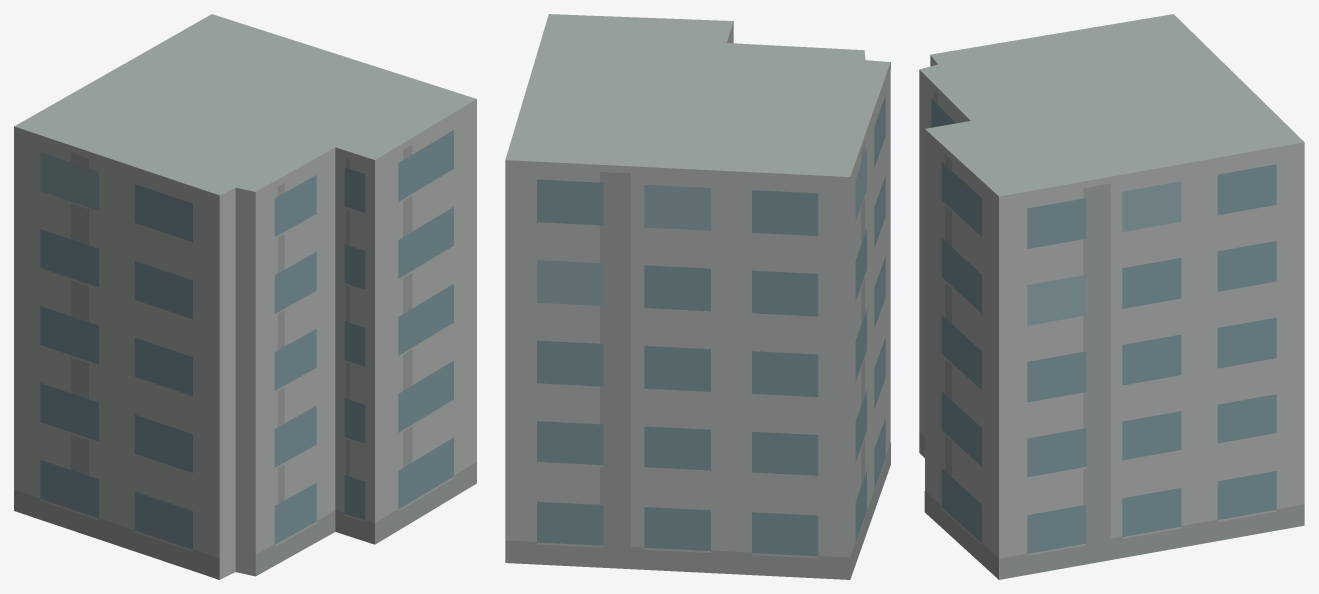
The model's file is survey-upis-33026941.glb.
3 views of the same model, side by side, from view 1: azimuth 30°, elevation 25°; view 2: azimuth 150°, elevation 25°; view 3: azimuth 270°, elevation 25° (orthographic). The views are drawn at different scales.
Parts seen in each view (by area): view 1: survey-upis-33026941.tmp; view 2: survey-upis-33026941.tmp; view 3: survey-upis-33026941.tmp.
Part boxes in pixels (box(x1,y1,x2,y2)): survey-upis-33026941.tmp: box(14, 14, 476, 579); survey-upis-33026941.tmp: box(505, 14, 890, 579); survey-upis-33026941.tmp: box(919, 14, 1304, 579).
Bounding box in the file's own units: 14.05 × 13.75 × 12.54.
